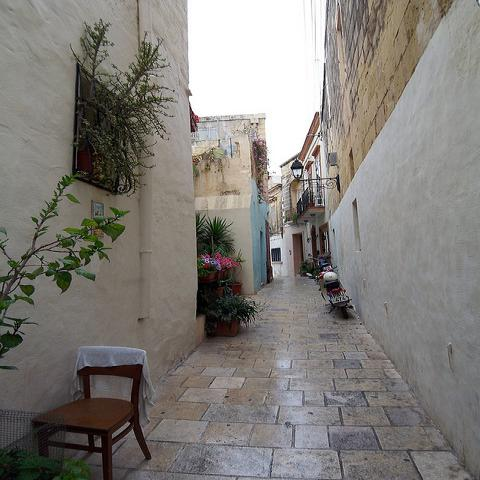motorcycle: (301, 265, 360, 322), (308, 252, 332, 269)
